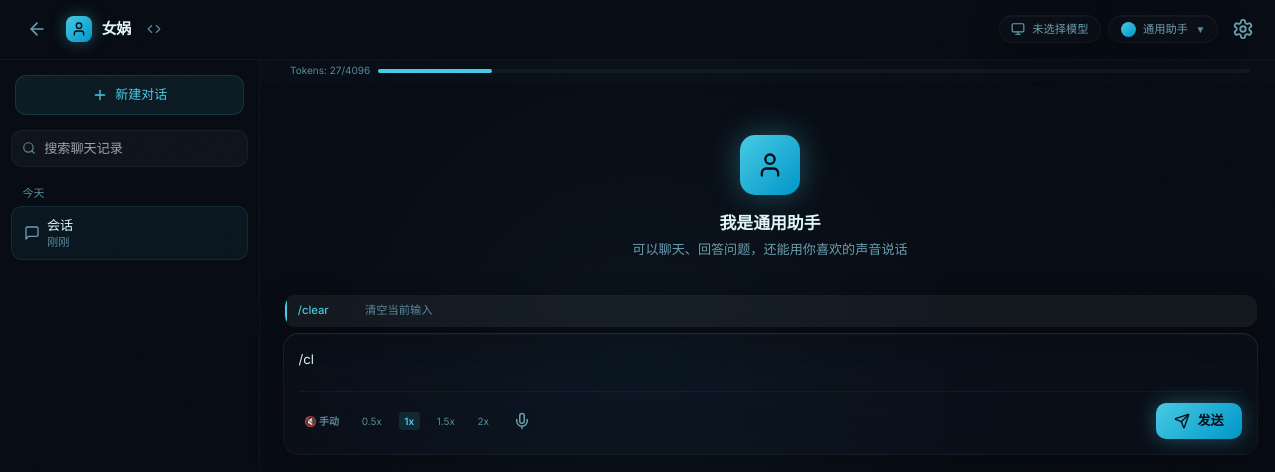
斜杠激活与过滤 (Req 4.1, 4.2) › 无匹配查询时不显示菜单
The width and height of the screenshot is (1275, 472).
Replace the text in the text box with placeholder "输入消息..." with "/zzzznotacommand" at (770, 361), box [298,349,1242,373]
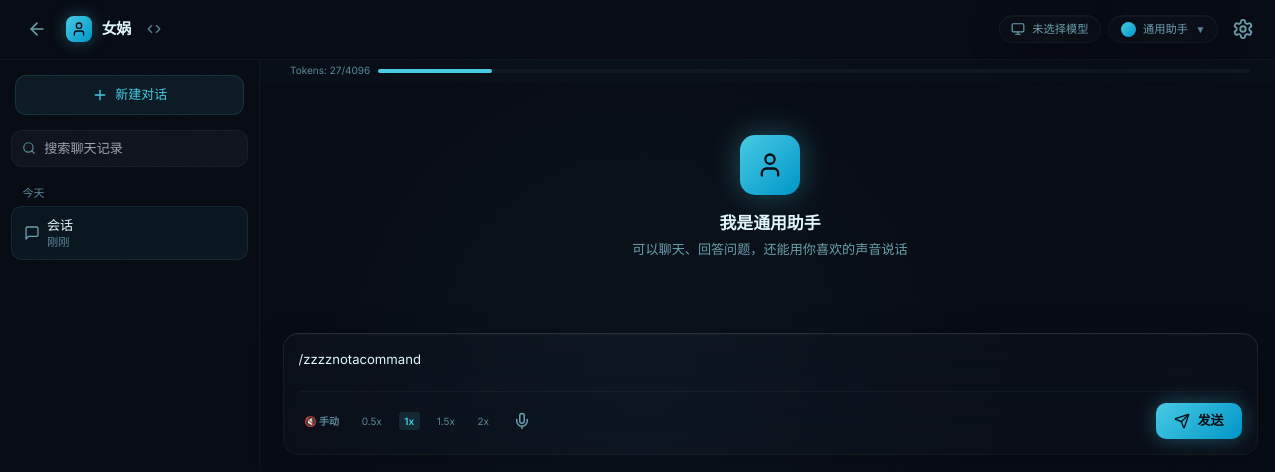
Check: the list with test id "slash-command-menu" is gone
